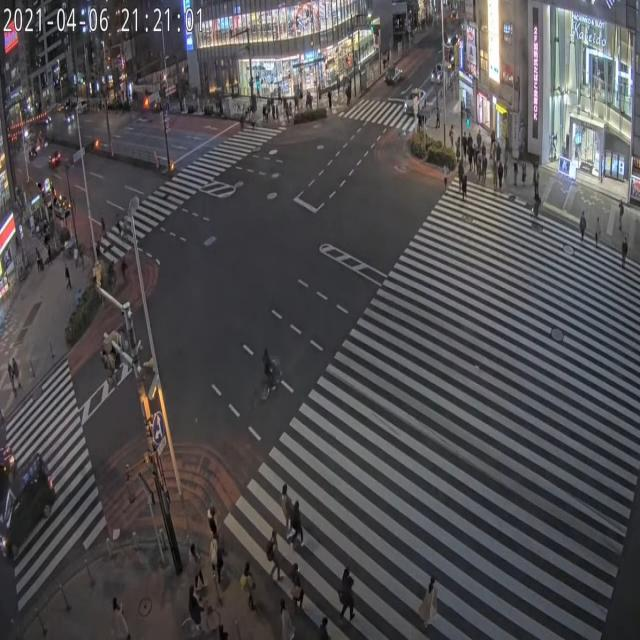bicycle: (256, 341, 286, 413), (184, 586, 219, 637)
humans: (264, 526, 282, 586), (422, 571, 438, 633), (339, 566, 356, 621), (188, 541, 206, 590), (290, 560, 306, 611), (242, 560, 257, 614), (280, 482, 292, 543), (279, 603, 295, 640), (578, 203, 588, 257), (292, 498, 302, 550), (208, 501, 221, 537), (594, 214, 602, 257), (462, 159, 469, 205), (513, 155, 520, 193), (621, 232, 627, 272), (482, 153, 488, 190), (533, 164, 539, 199), (443, 157, 449, 192), (520, 159, 528, 185), (618, 198, 624, 231), (498, 165, 504, 194)
